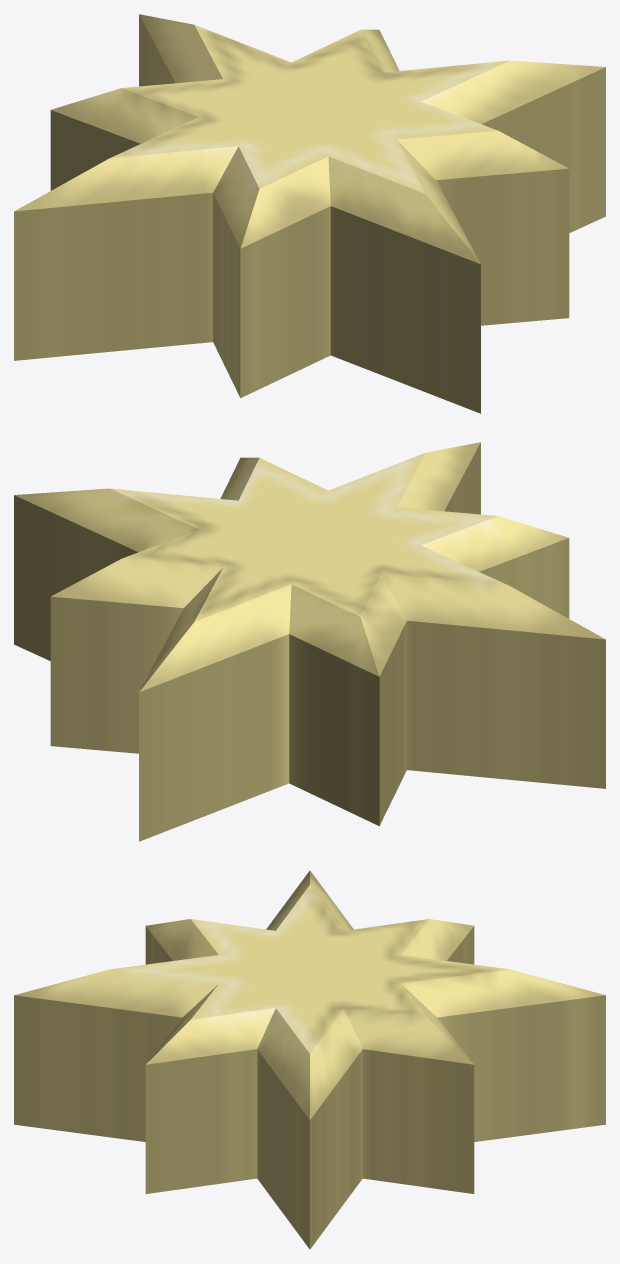
File: SymbolStar.fbx
3 views of the same model, one above another, from view 1: azimuth 30°, elevation 25°; view 2: azimuth 150°, elevation 25°; view 3: azimuth 270°, elevation 25° (orthographic). The views are drawn at different scales.
Parts seen in each view (by area): view 1: star; view 2: star; view 3: star.
Boxes of the visible parts, x1,y1,x2,y2 form: star: (14,14,605,413); star: (14,442,605,841); star: (14,870,605,1249).
Bounding box in the file's own units: 0.1036 × 0.03 × 0.1036.
1 material, 1 textured.
